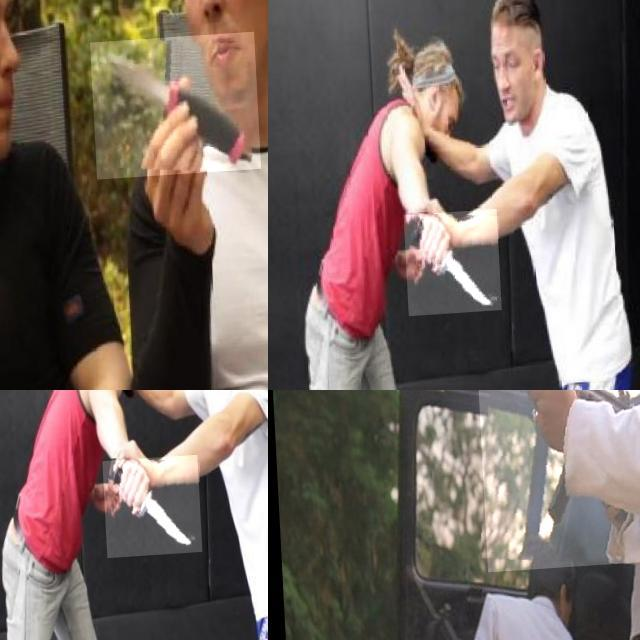-: (88, 38, 258, 184), (401, 214, 498, 320), (100, 460, 198, 562)
gun-knife-thesis - v11 Yolov5 augmented: (472, 390, 640, 575)
